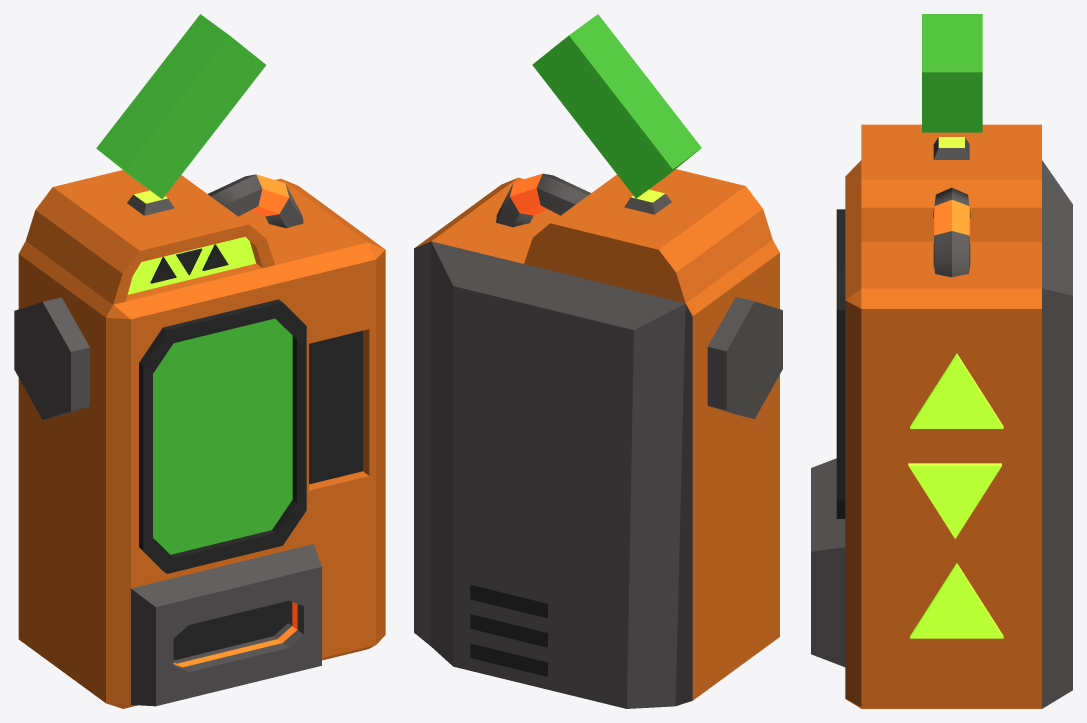
File: scifi_scifi-vending-machine-soda.fbx
3 views of the same model, side by side, from view 1: azimuth 30°, elevation 25°; view 2: azimuth 150°, elevation 25°; view 3: azimuth 270°, elevation 25° (orthographic). The views are drawn at different scales.
Visible parts, largest first — view 1: scifi_scifi_vending_machine_soda; view 2: scifi_scifi_vending_machine_soda; view 3: scifi_scifi_vending_machine_soda.
Part boxes in pixels (x1=…): scifi_scifi_vending_machine_soda: x1=14, y1=14, x2=385, y2=708; scifi_scifi_vending_machine_soda: x1=414, y1=14, x2=782, y2=708; scifi_scifi_vending_machine_soda: x1=811, y1=14, x2=1072, y2=708.
Size of the model in its own units: 103 by 200 by 74.18.
